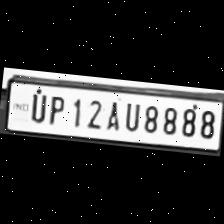1: (65, 94, 85, 128)
2: (82, 94, 106, 130)
8: (158, 103, 181, 137), (138, 101, 160, 135), (196, 106, 218, 140), (178, 104, 197, 138)
A: (101, 96, 123, 132)
P: (43, 92, 67, 126)
U: (25, 88, 47, 124), (121, 97, 143, 132)
